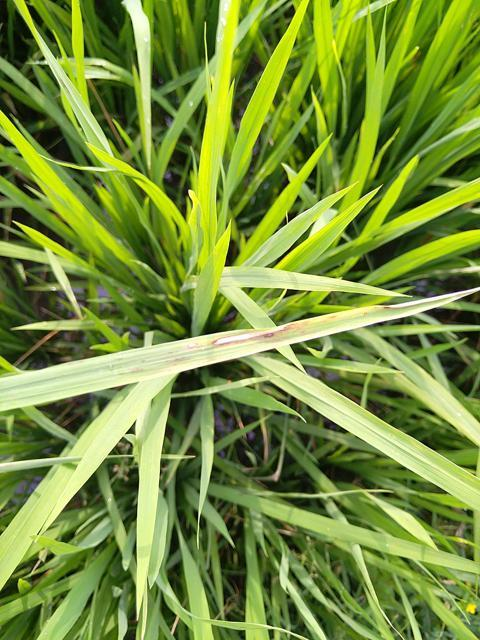Leaf Streak: (128, 307, 390, 374)
